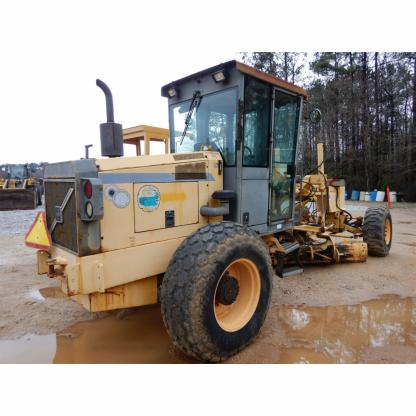bull_dozer/loader/grader: (25, 36, 416, 357)
